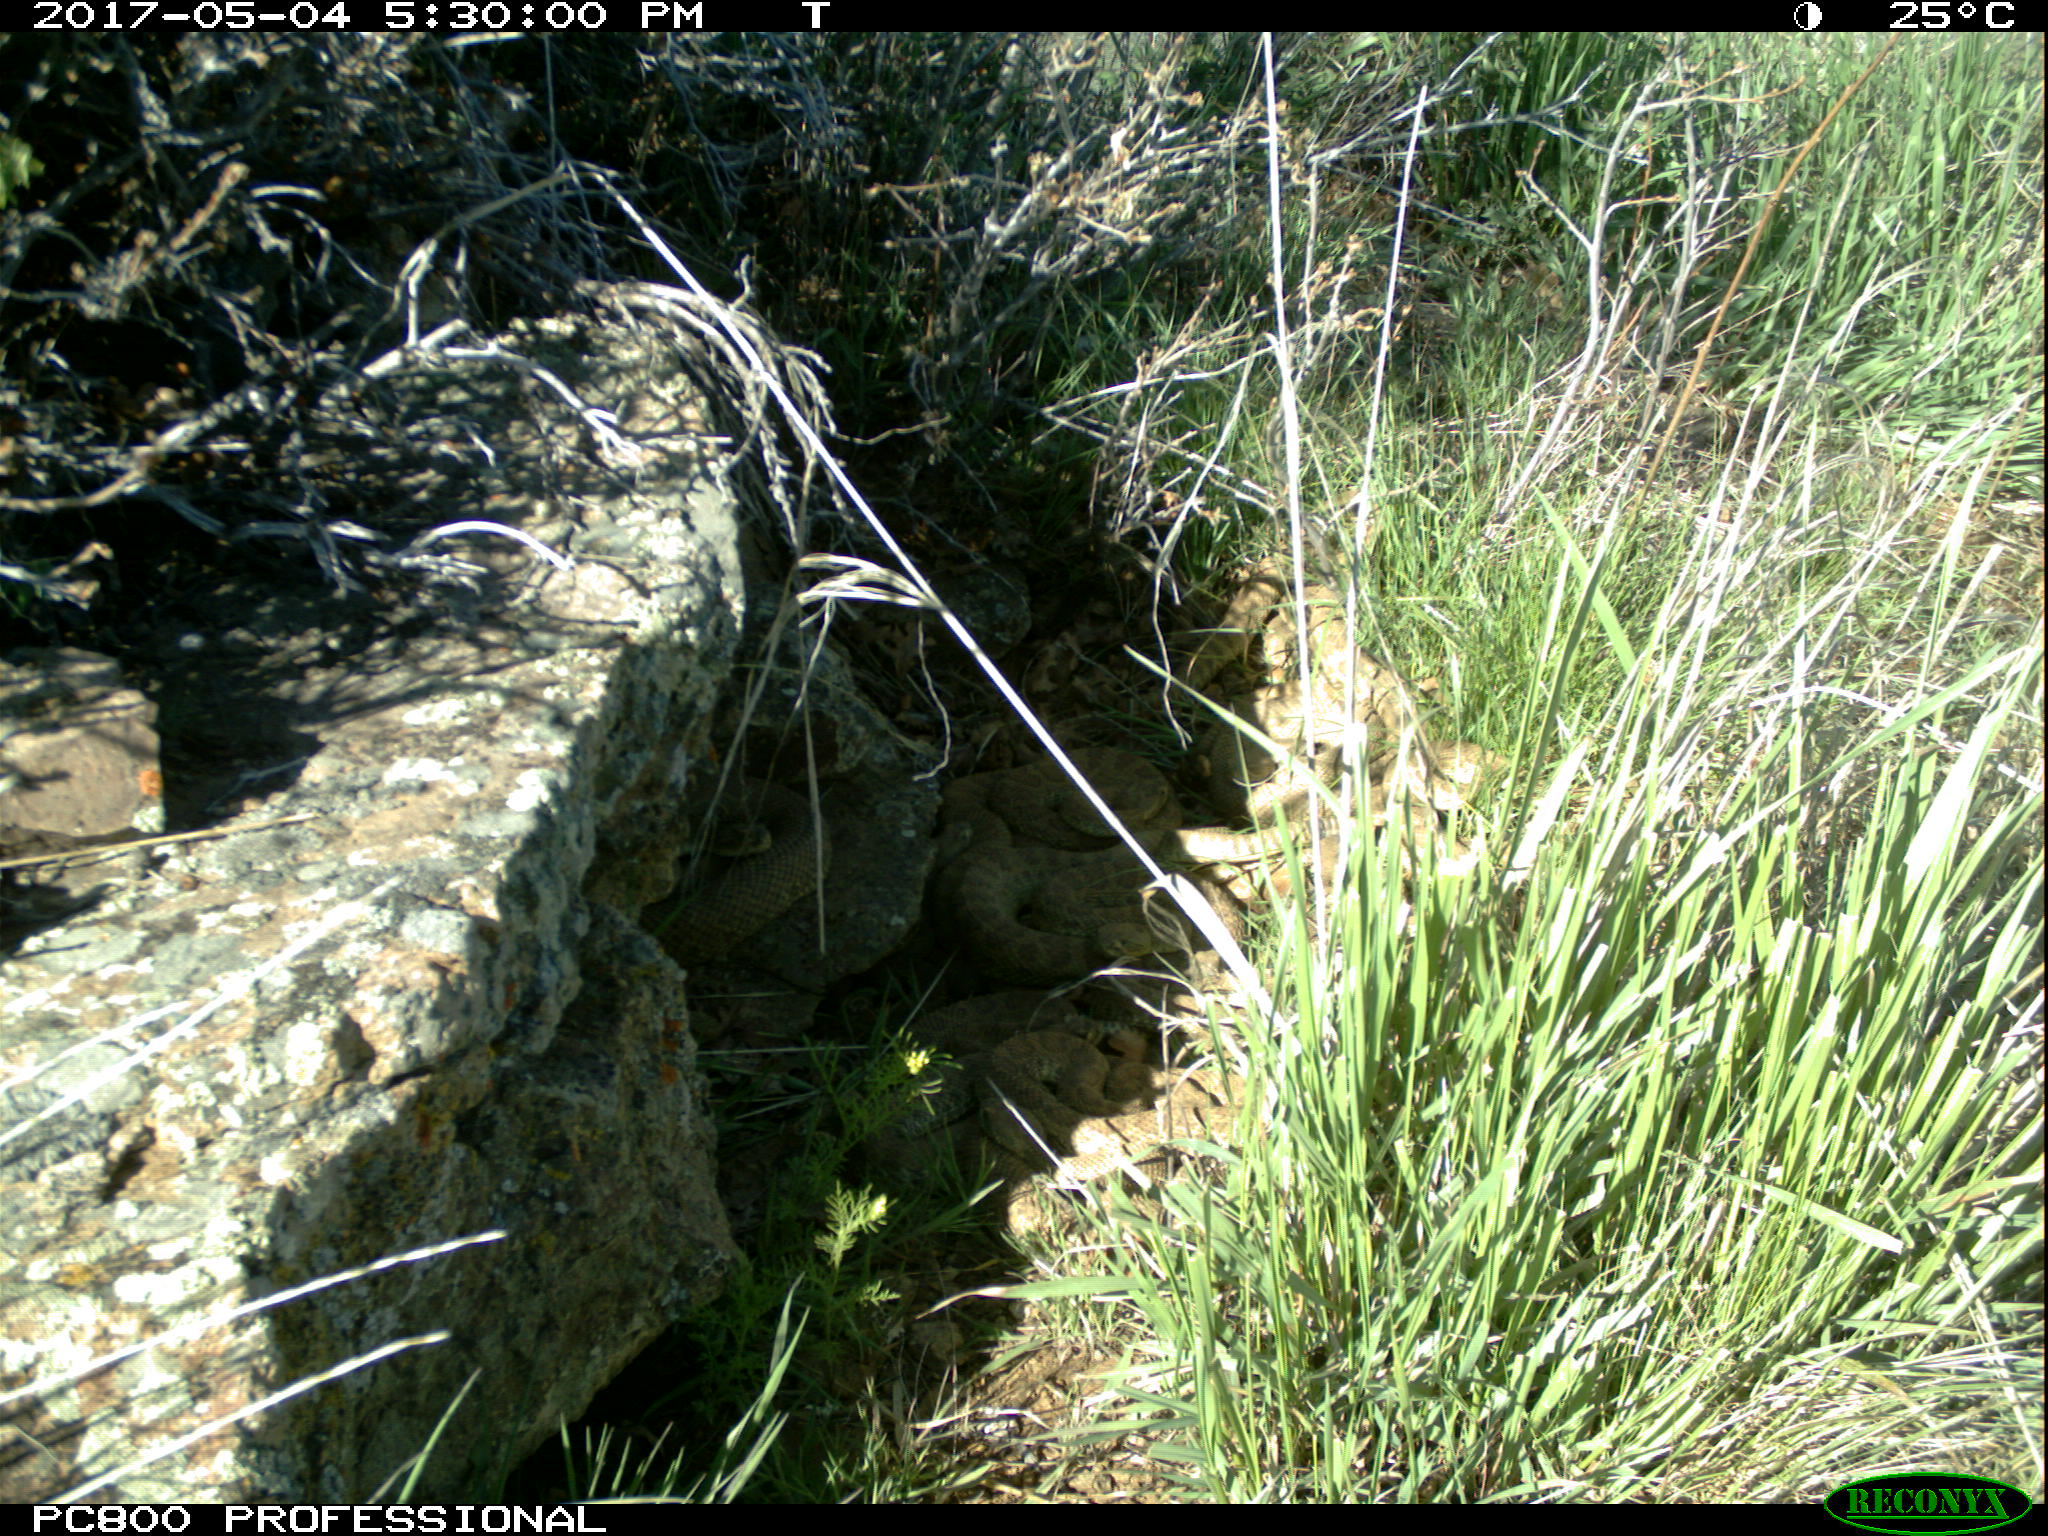snake: (942, 741, 1292, 975), (956, 1021, 1269, 1238), (1180, 552, 1409, 724), (660, 771, 840, 970)
